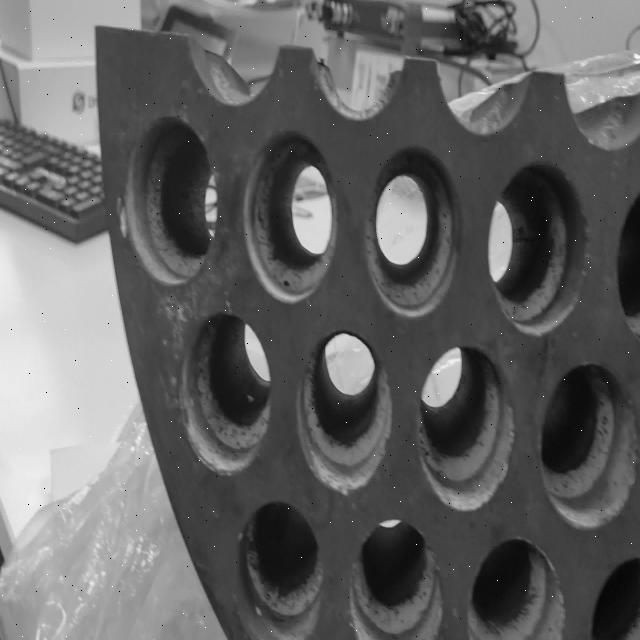Hole: (487, 160, 590, 337), (362, 142, 460, 318), (538, 362, 639, 531), (119, 113, 218, 285), (243, 128, 338, 304), (417, 343, 515, 512), (296, 329, 394, 494), (179, 312, 272, 476), (237, 500, 324, 639), (349, 518, 445, 640), (469, 536, 566, 640), (589, 554, 640, 640), (616, 182, 640, 345)
